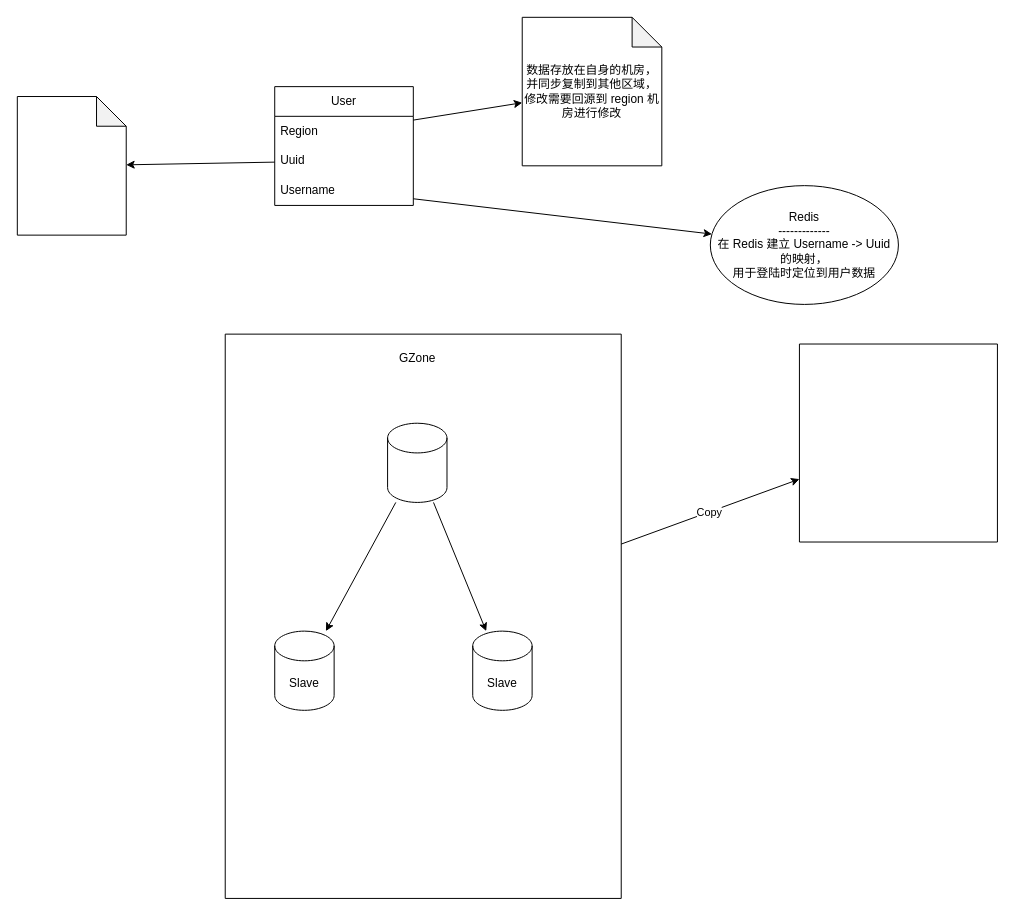
Some shapes in this 1015 by 916 pixel diagram are drawn without their labels. The centre of each missing label's shape, as x and y in pixels:
CZone: point (897, 442)
Master: point (417, 462)
根据 UUID 进行取模分表 ------- UUID 主要是用于做其他表的外键时使用: point (71, 165)
